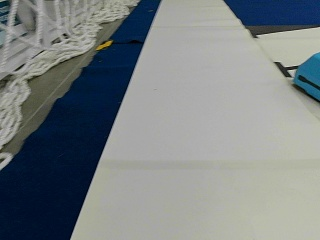car: (290, 51, 319, 101)
